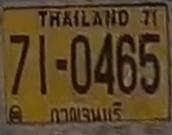0: (70, 34, 90, 93)
1: (38, 33, 48, 96)
4: (94, 32, 113, 92)
5: (138, 33, 160, 93)
6: (116, 33, 136, 93)
7: (9, 34, 29, 93)
KRI: (45, 100, 124, 123)
